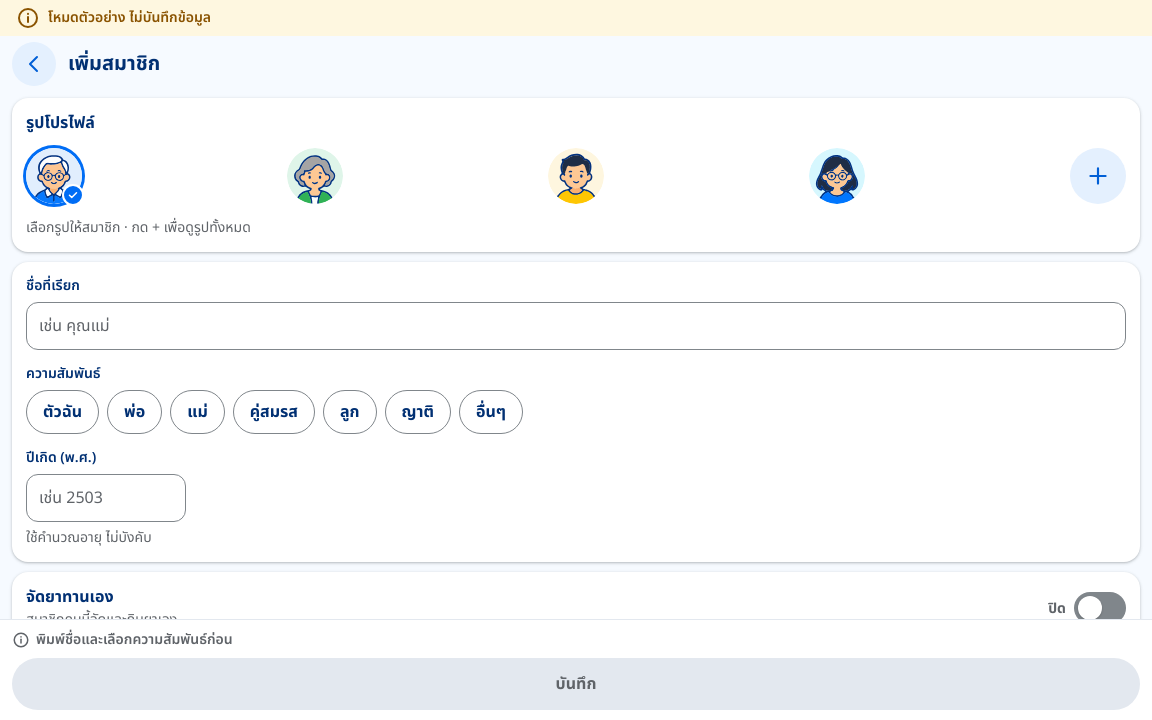
Test: the save button › a wrong birth year blocks it too; empty is fine
Type "คุณยาย" into the field labelled "ชื่อที่เรียก" at (576, 326), box [26,302,1126,350]
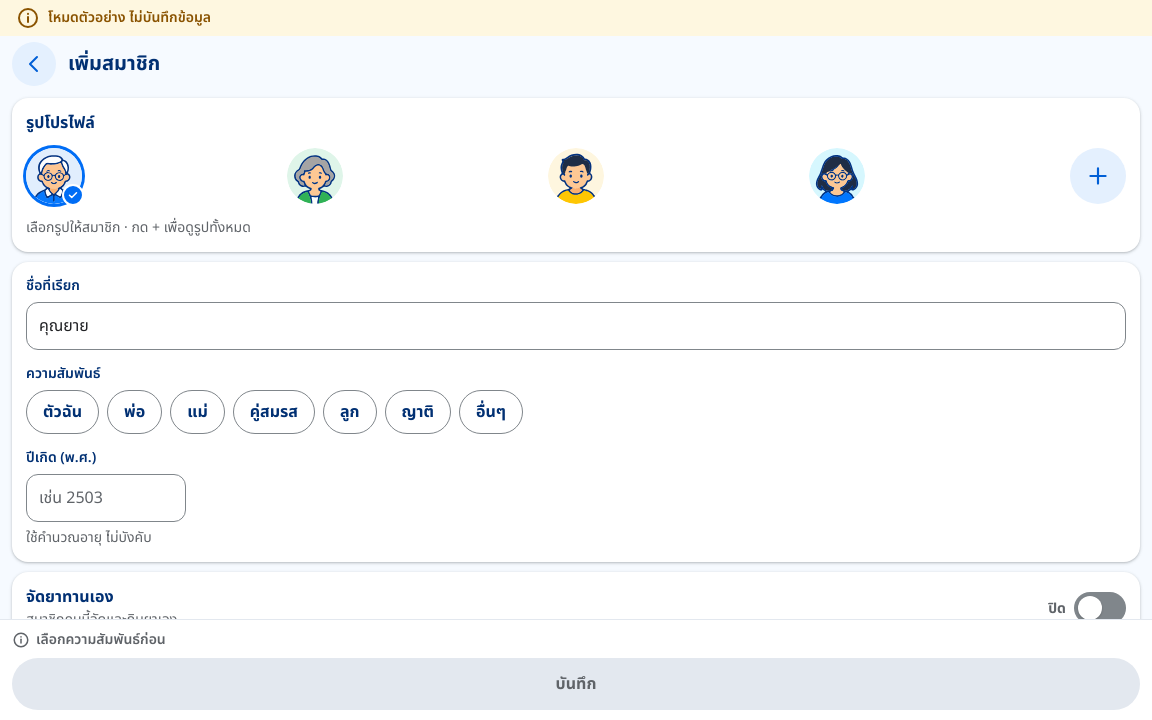
Click the button "ญาติ" at (418, 412), box [384,390,451,434]
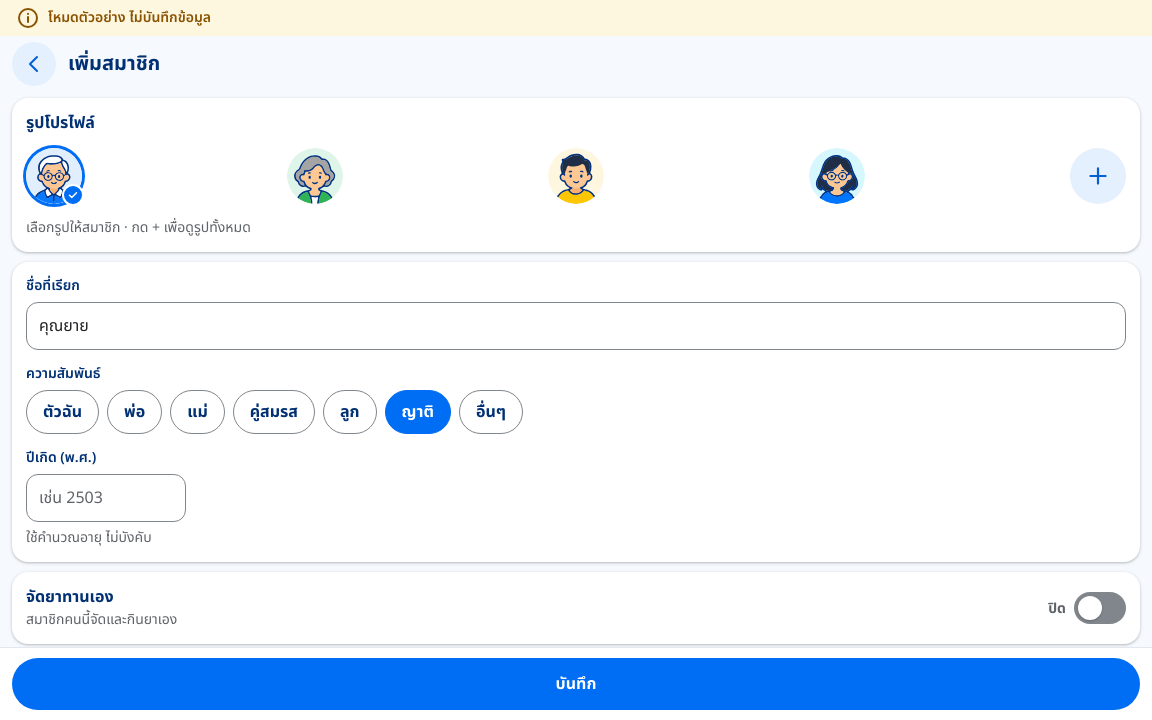
Type "25" into the field labelled "ปีเกิด (พ.ศ.)" at (106, 498), box [26,474,186,522]
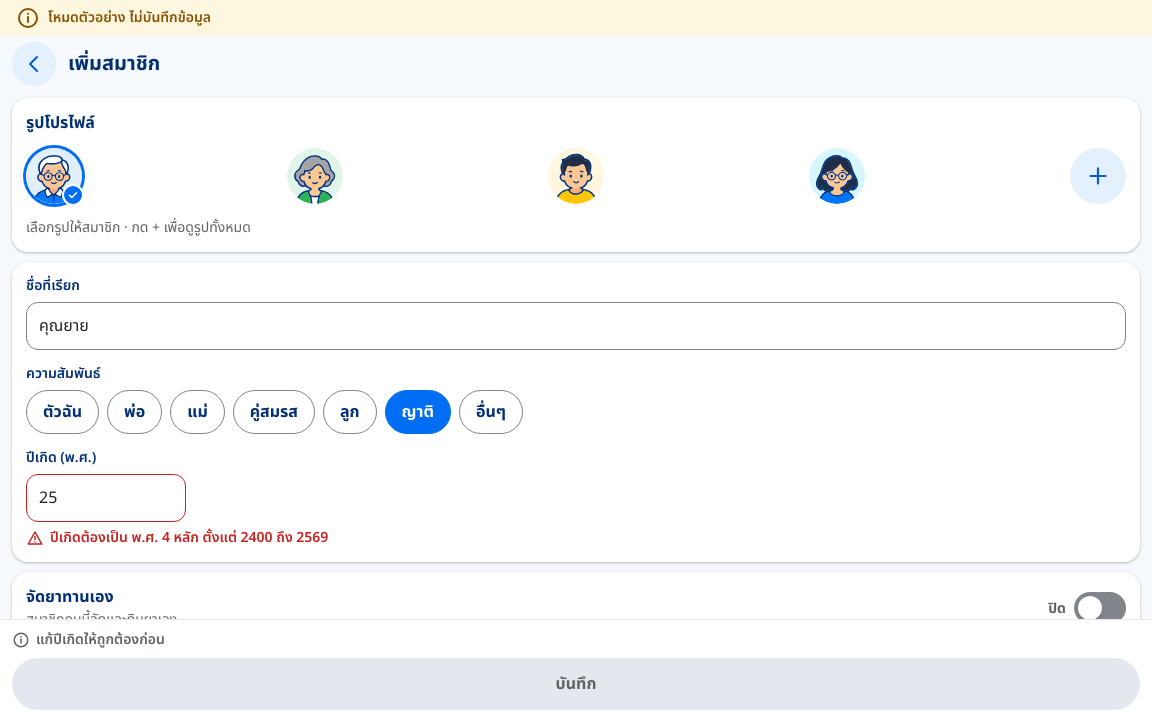
Expected: the button "บันทึก" is disabled, [12,658,1140,710]
Expected: the text "แก้ปีเกิดให้ถูกต้องก่อน" is shown, [12,629,165,650]
Clear the field labelled "ปีเกิด (พ.ศ.)" at (106, 498), box [26,474,186,522]
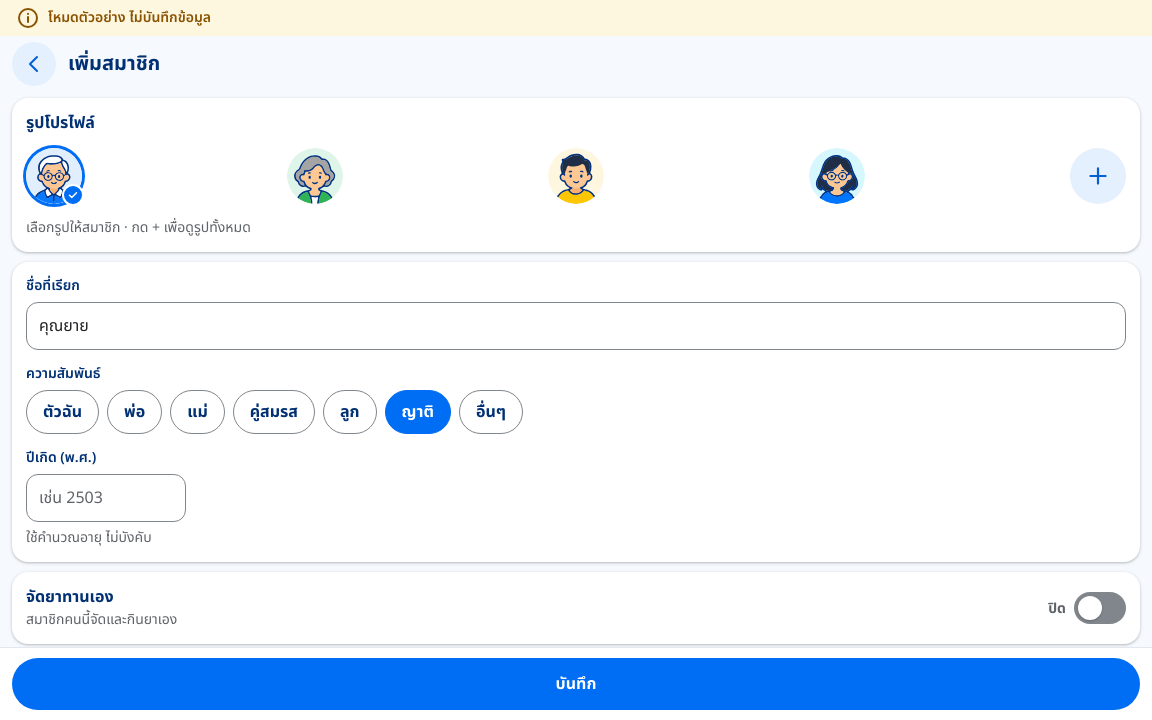
Expected: the button "บันทึก" is enabled, [12,658,1140,710]
